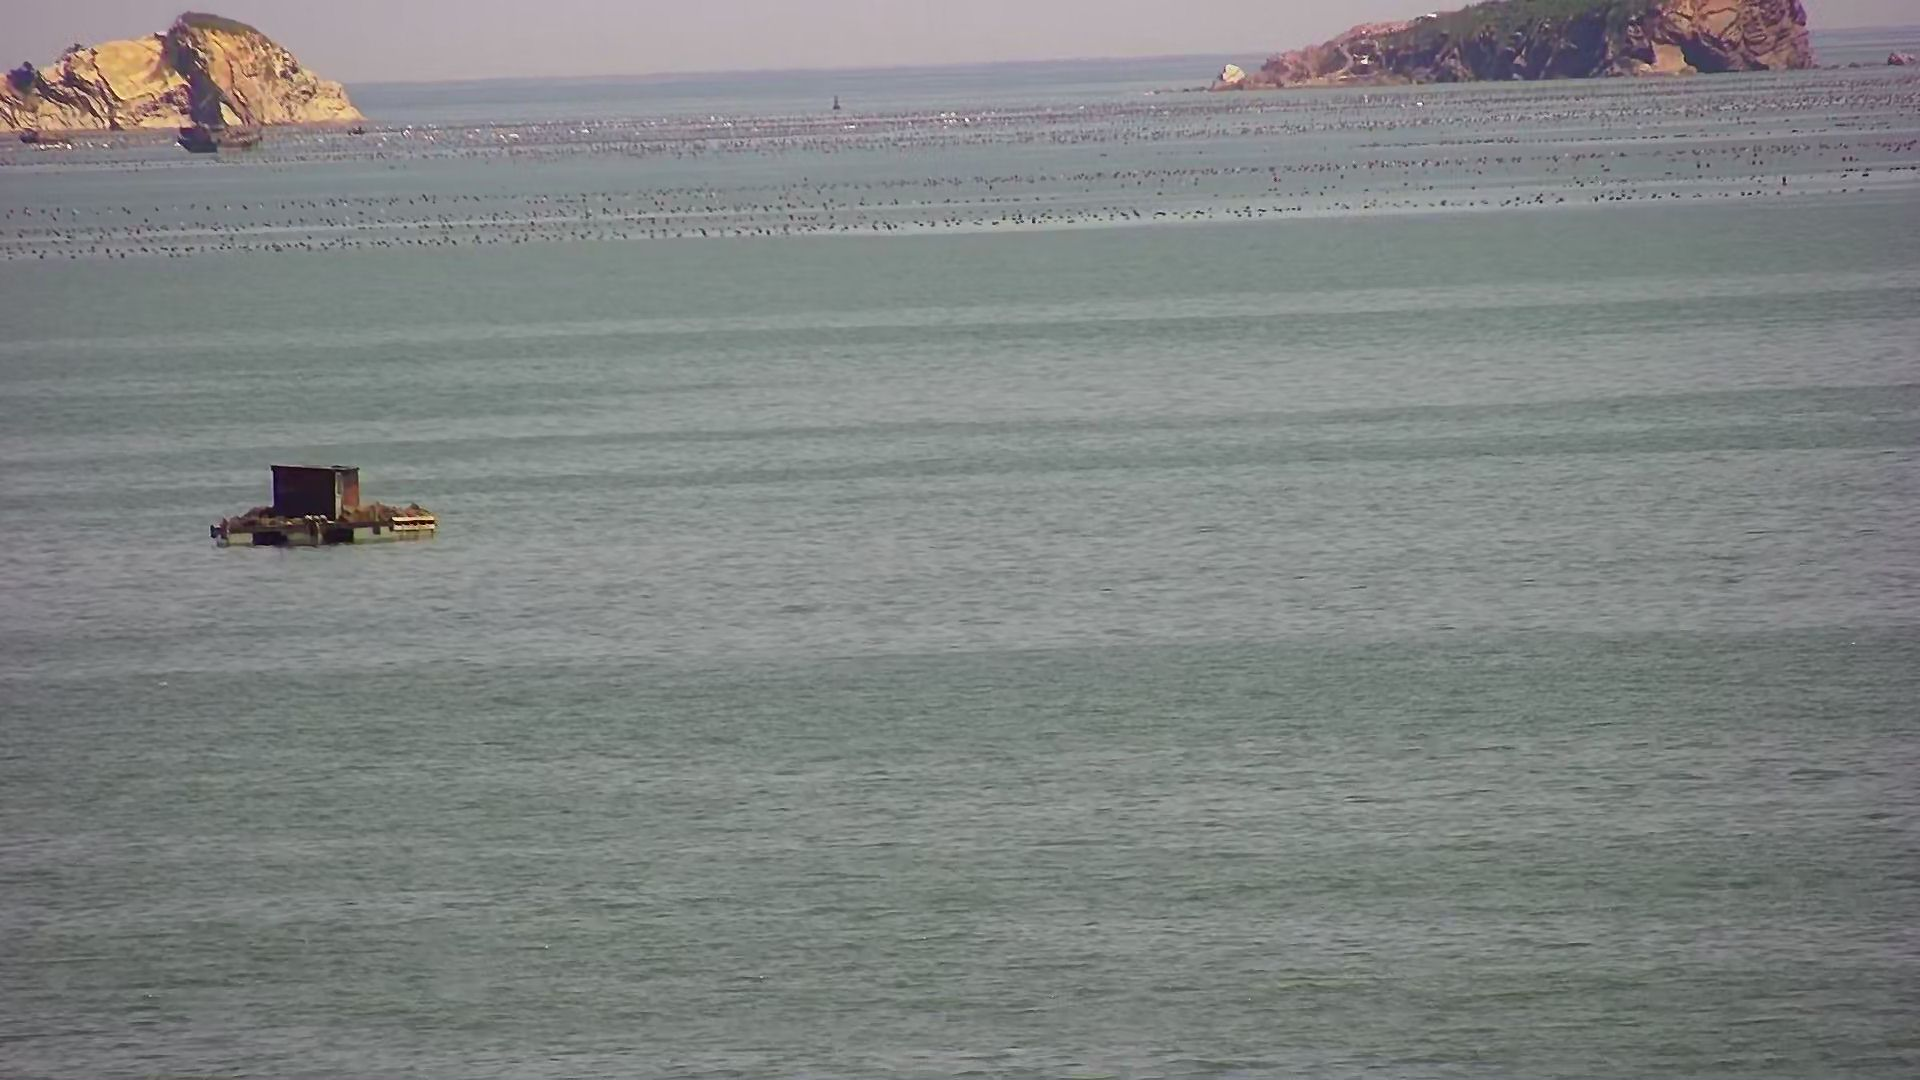platform: (206, 460, 443, 554)
rock: (1147, 7, 1898, 98), (1, 7, 382, 145)
